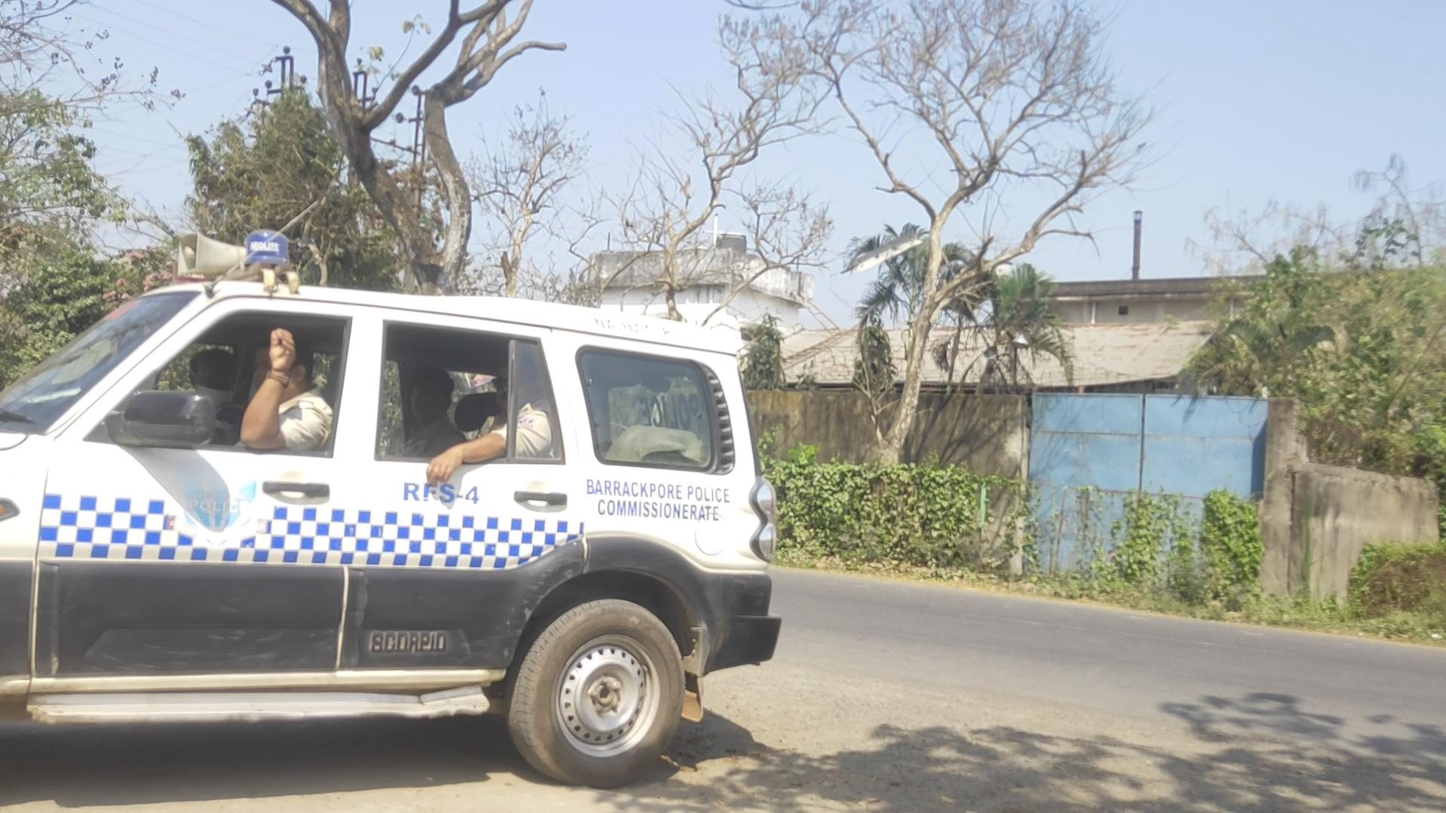car: (1, 232, 784, 789)
